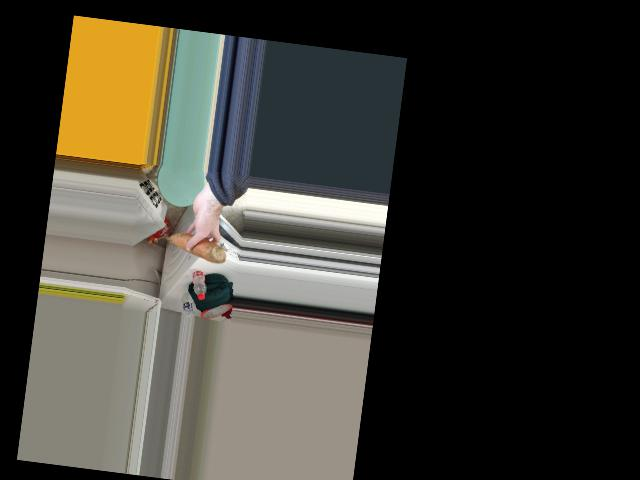sweet_potato: (162, 234, 227, 260)
